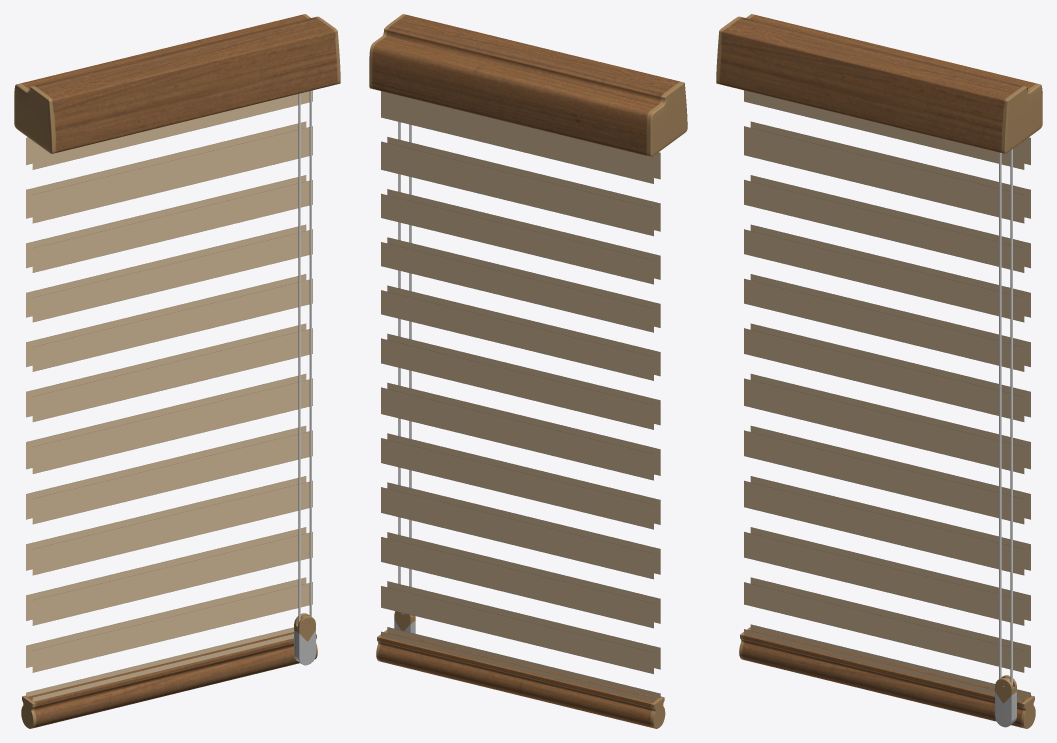
File: curtain_02_14.001.fbx
3 renders of one model, left to right at view 1: azimuth 30°, elevation 25°; view 2: azimuth 150°, elevation 25°; view 3: azimuth 330°, elevation 25°, orthographic. The views are drawn at different scales.
Parts seen in each view (by area): view 1: curtain_02_14.001; view 2: curtain_02_14.001; view 3: curtain_02_14.001.
Boxes of the visible parts, x1,y1,x2,y2 form: curtain_02_14.001: [14, 14, 340, 728]; curtain_02_14.001: [369, 14, 687, 728]; curtain_02_14.001: [716, 14, 1042, 728].
Bounding box in the file's own units: 51.11 × 109 × 11.73.
1 material, 1 textured.
